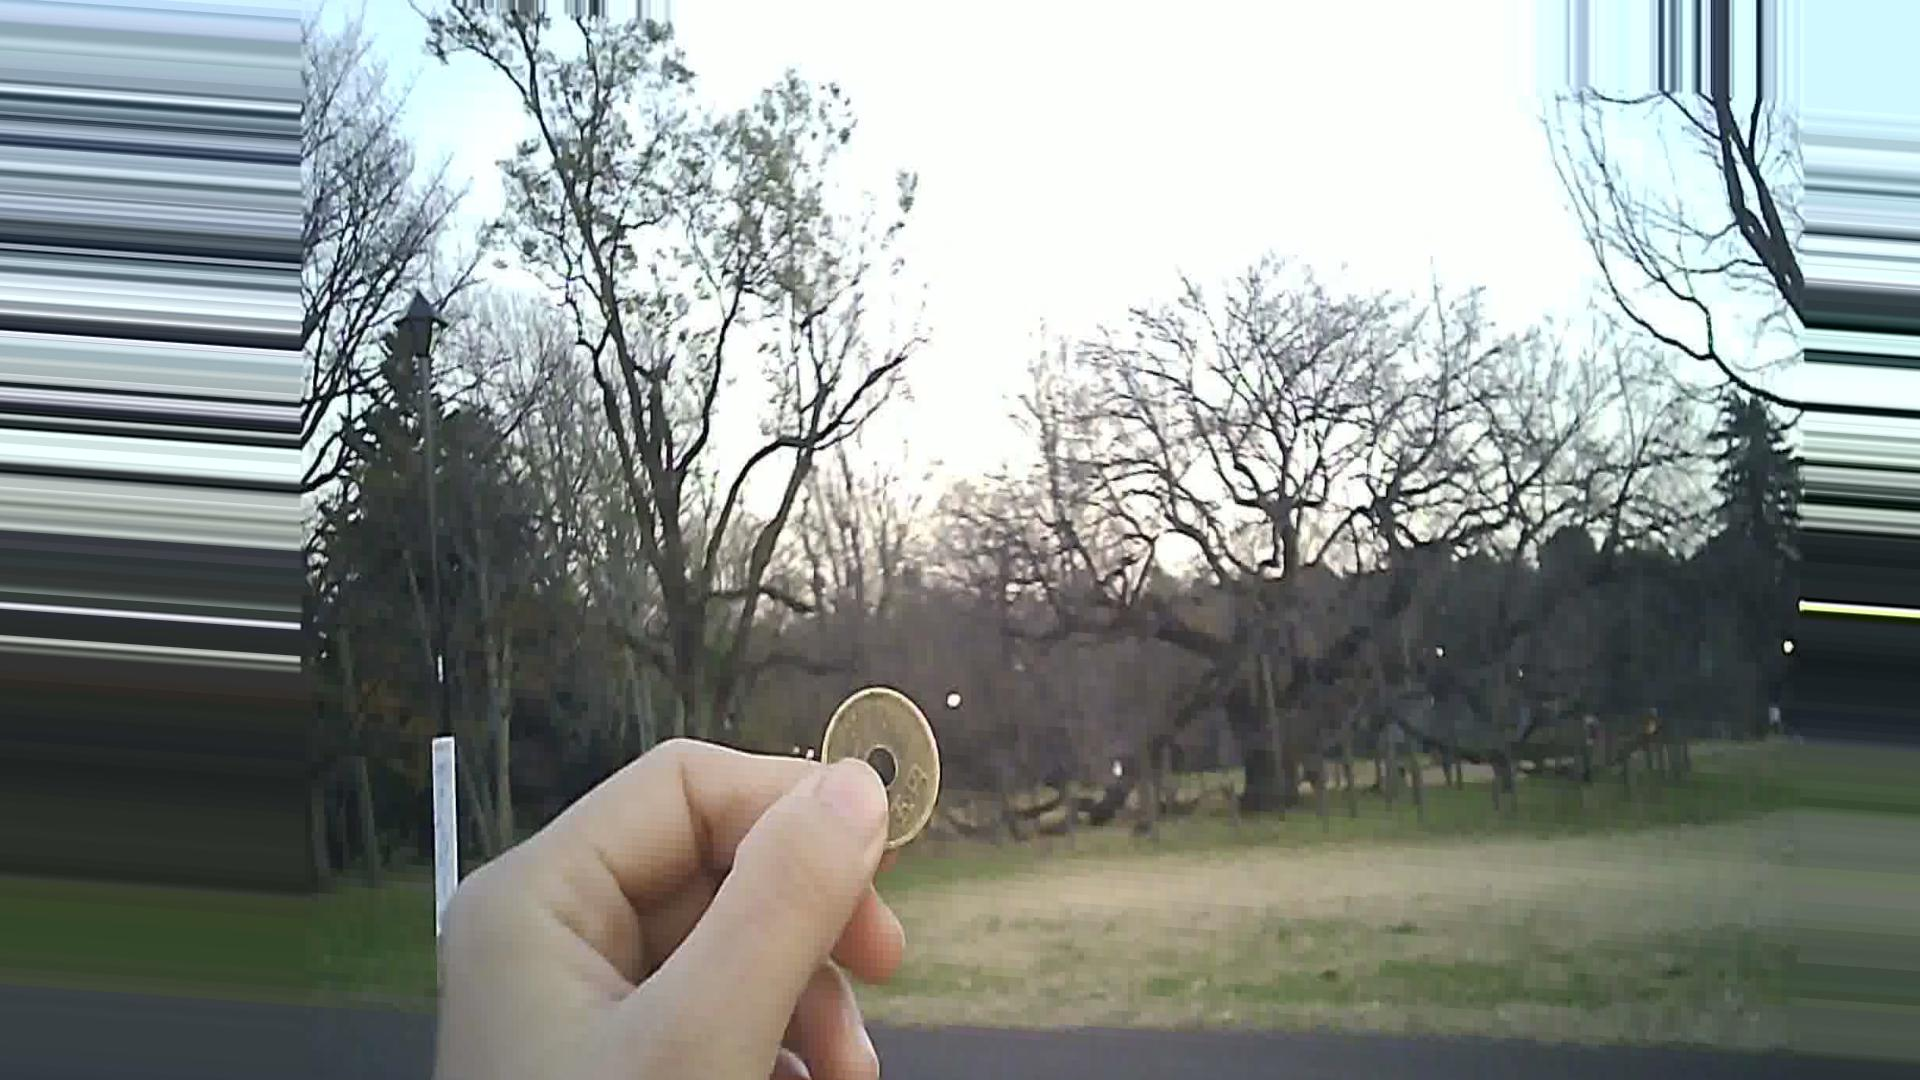5 Yen: (803, 680, 949, 853)
